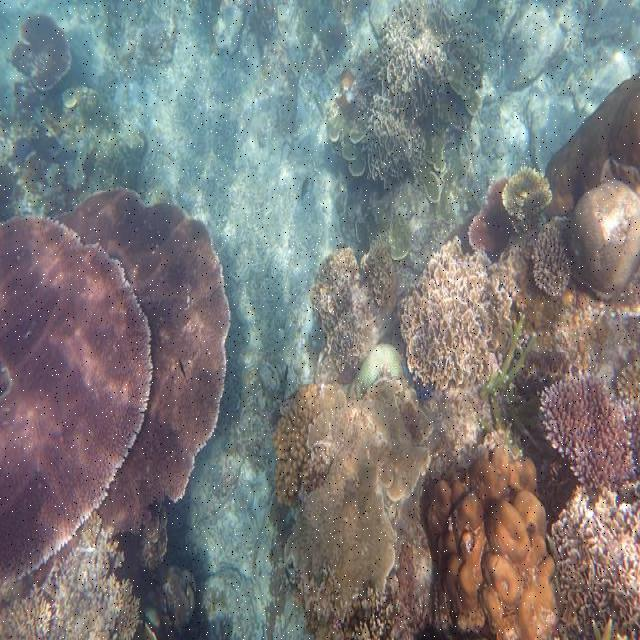reefs: (55, 186, 232, 537), (0, 215, 154, 585), (283, 377, 434, 639), (329, 1, 488, 200), (427, 443, 559, 639), (399, 234, 513, 389), (0, 514, 140, 639), (551, 485, 639, 639), (311, 230, 398, 372), (538, 373, 639, 493), (567, 157, 639, 304), (273, 383, 319, 509), (12, 14, 69, 90), (504, 165, 553, 234), (532, 222, 573, 297), (469, 177, 511, 250)
